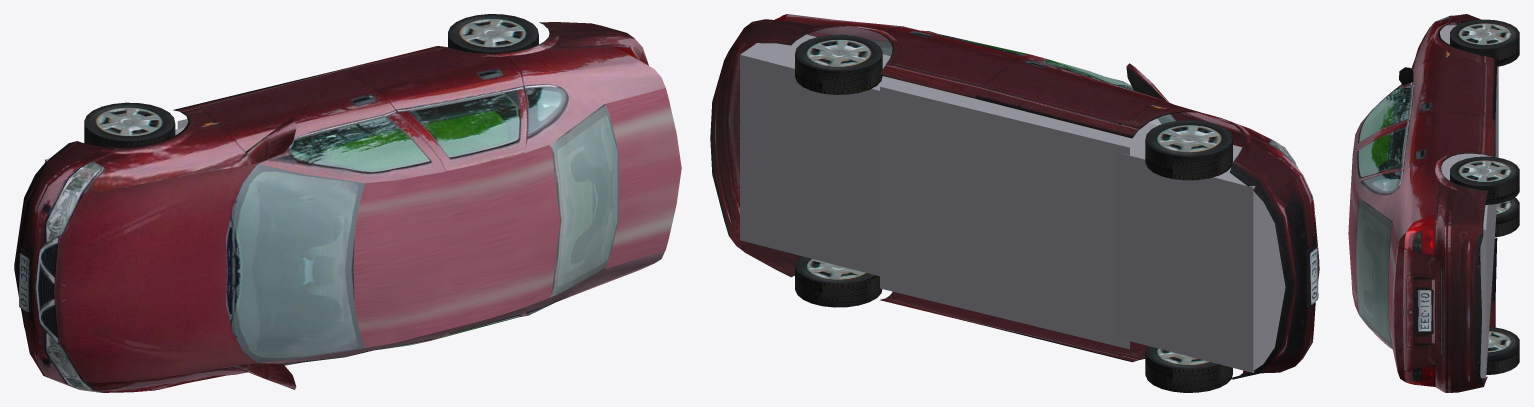
File: Car_05.obj
The picture shows the model from 3 angles, left to right: view 1: azimuth 30°, elevation 25°; view 2: azimuth 150°, elevation 25°; view 3: azimuth 270°, elevation 25°; orthographic projection. The views are drawn at different scales.
Visible parts, largest first — view 1: _5body, _5tyres, _5tyresurf, _5plates; view 2: _5fill, _5body, _5tyresurf, _5tyres; view 3: _5body, _5tyres, _5tyresurf, _5fill, _5plates.
Part boxes in pixels (bbox=[...]): _5body: bbox=[14, 22, 681, 392]; _5tyres: bbox=[84, 14, 538, 141]; _5tyresurf: bbox=[84, 33, 538, 147]; _5plates: bbox=[19, 253, 29, 312]; _5fill: bbox=[740, 34, 1285, 372]; _5body: bbox=[710, 14, 1319, 379]; _5tyresurf: bbox=[795, 53, 1232, 392]; _5tyres: bbox=[795, 34, 1232, 369]; _5body: bbox=[1348, 14, 1497, 392]; _5tyres: bbox=[1450, 19, 1519, 356]; _5tyresurf: bbox=[1450, 36, 1519, 374]; _5fill: bbox=[1440, 25, 1498, 378]; _5plates: bbox=[1418, 290, 1431, 331].
Size of the model in its own units: 4.83 by 2 by 1.49.
